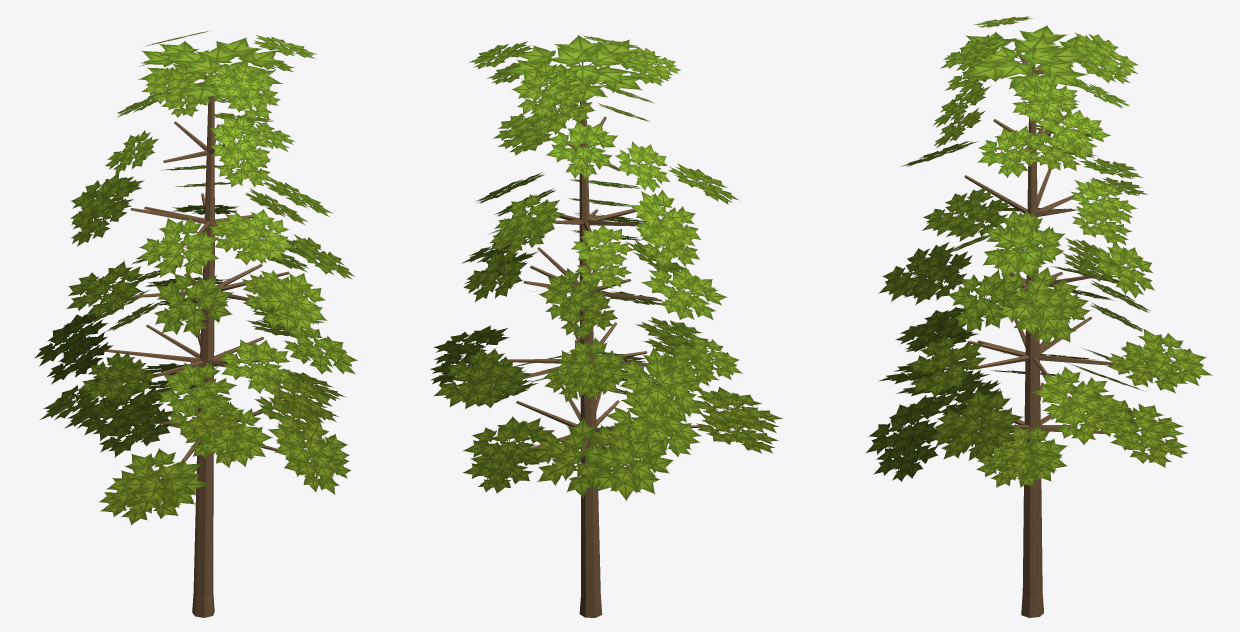
Rendered from maple2_big.glb.
3 renders of one model, left to right at view 1: azimuth 30°, elevation 25°; view 2: azimuth 150°, elevation 25°; view 3: azimuth 270°, elevation 25°, orthographic. The views are drawn at different scales.
Visible parts, largest first — view 1: maple2_big; view 2: maple2_big; view 3: maple2_big.
Part boxes in pixels (x1=…): maple2_big: x1=34, y1=31, x2=357, y2=617; maple2_big: x1=430, y1=35, x2=782, y2=617; maple2_big: x1=865, y1=16, x2=1212, y2=617.
Bounding box in the file's own units: 5.22 × 8.67 × 5.13.
Materials: 2 (2 with a texture image).
